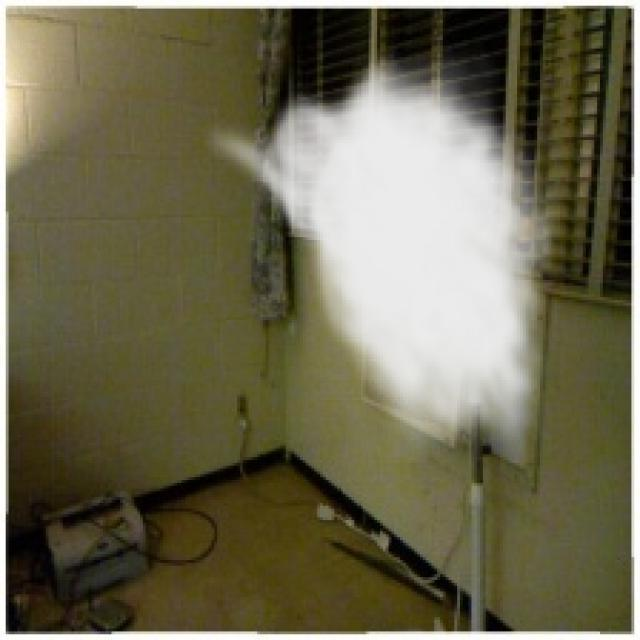Smoke: (200, 42, 563, 468)
